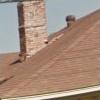Chimney: (13, 1, 52, 59)
